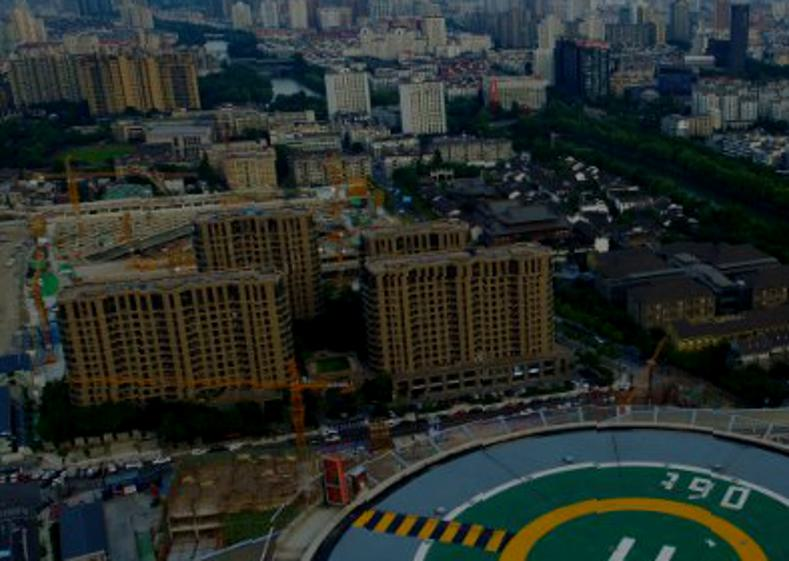Apron: (485, 498, 729, 561)
